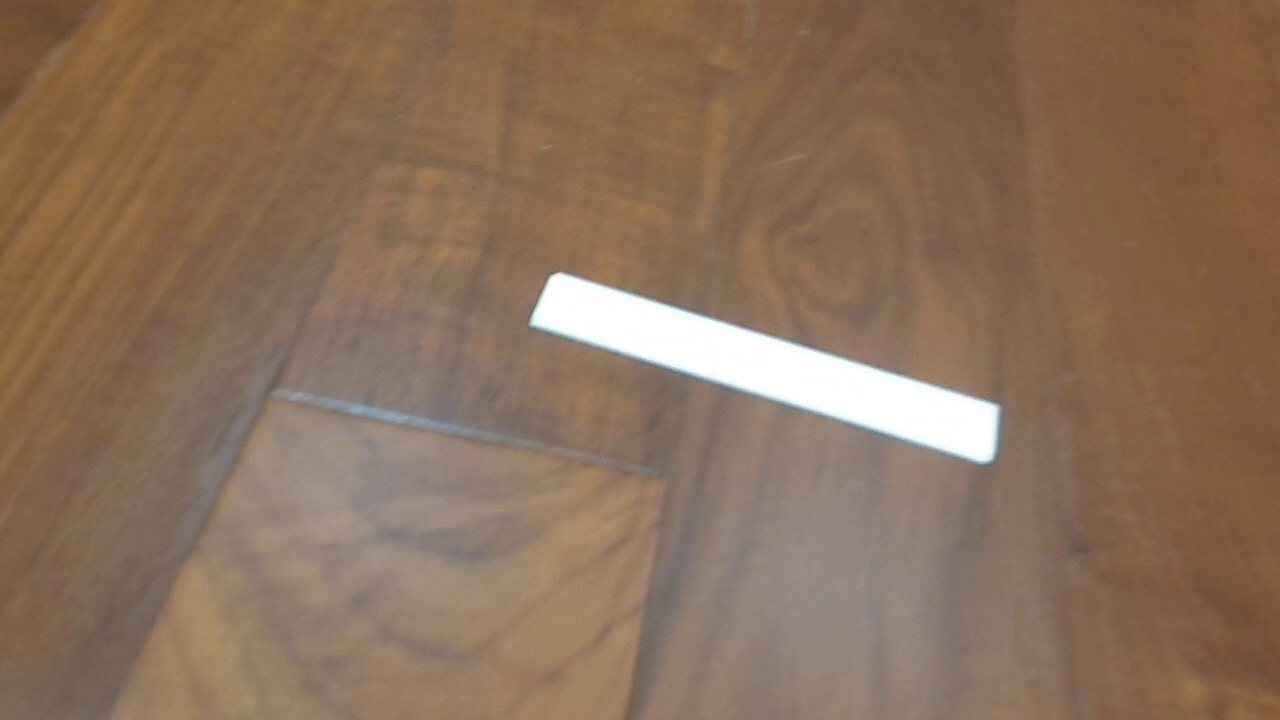ruler: (527, 270, 1003, 468)
